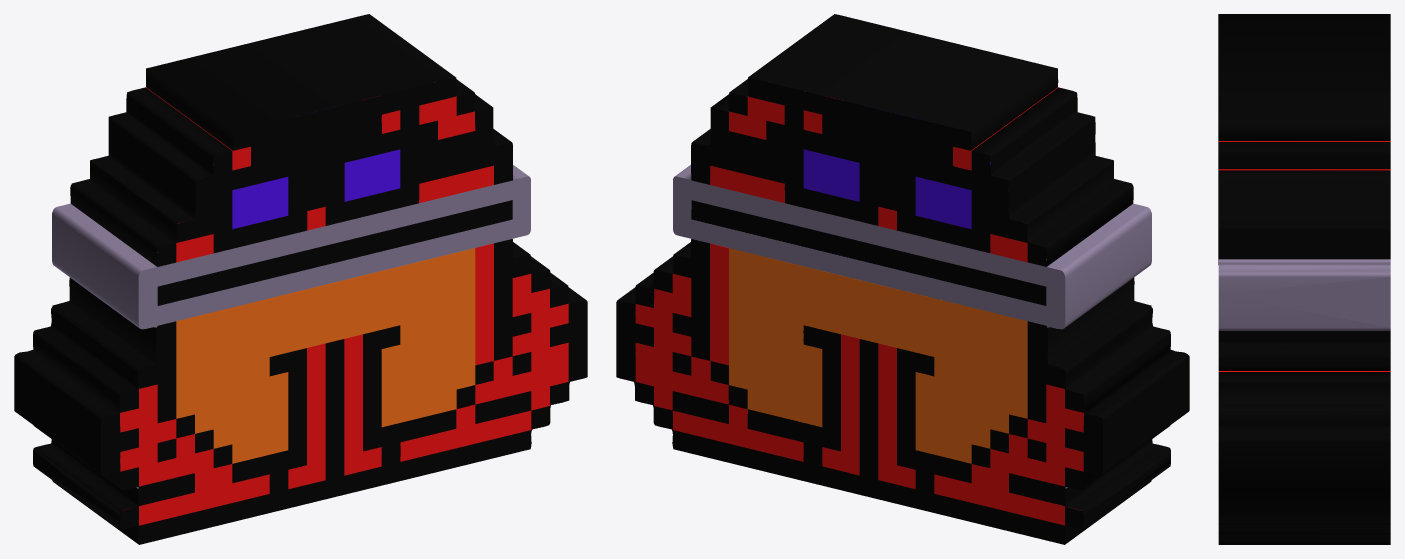
Rendered from Toadz_372.glb.
3 views of the same model, side by side, from view 1: azimuth 30°, elevation 25°; view 2: azimuth 150°, elevation 25°; view 3: azimuth 270°, elevation 25° (orthographic).
Visible parts, largest first — view 1: Curve; view 2: Curve; view 3: Curve.
Boxes of the visible parts, x1,y1,x2,y2 form: Curve: (14, 14, 587, 544); Curve: (616, 14, 1189, 544); Curve: (1218, 14, 1390, 544).
Size of the model in its own units: 3.24 by 2.49 by 1.
